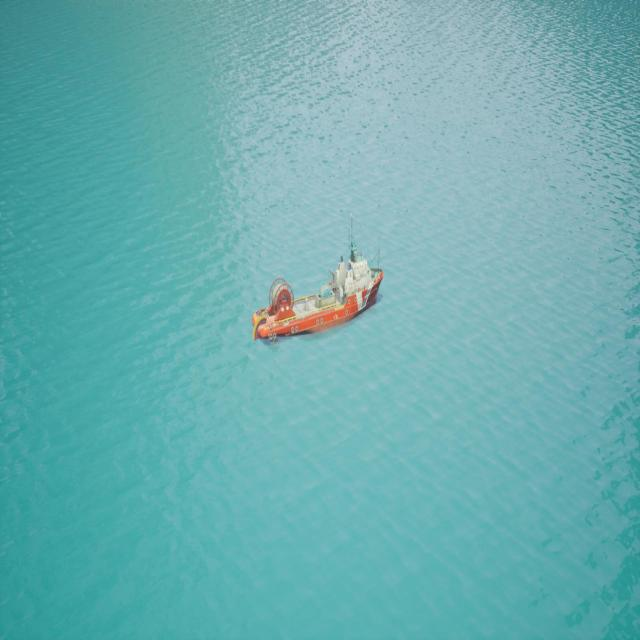tug boat: (252, 249, 390, 345)
